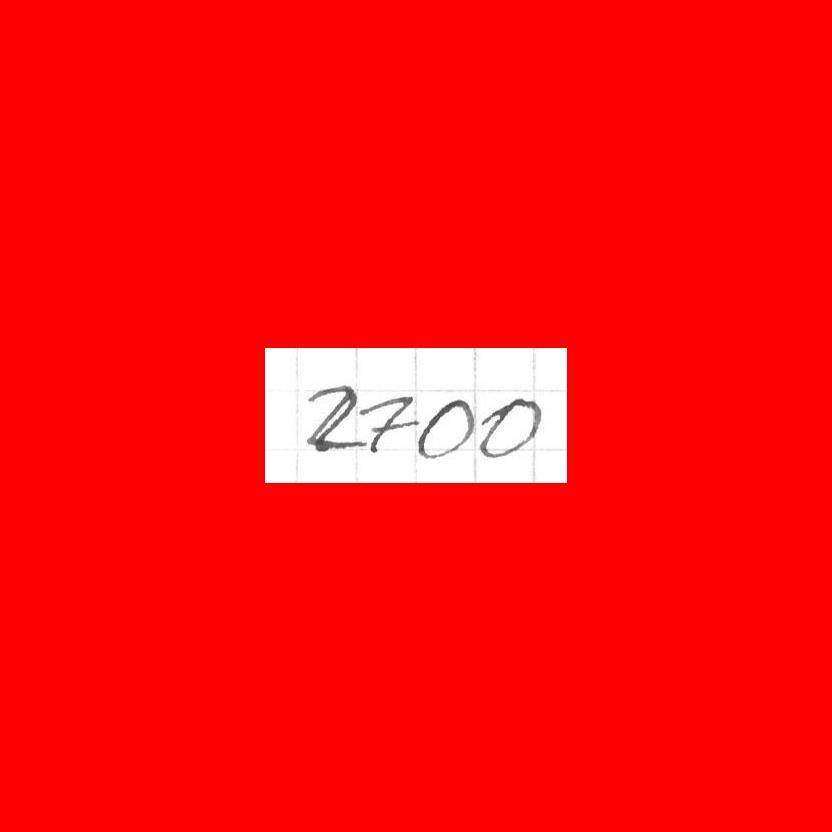Char: (304, 384, 367, 453), (478, 396, 542, 459), (415, 396, 478, 459), (355, 394, 418, 455)
